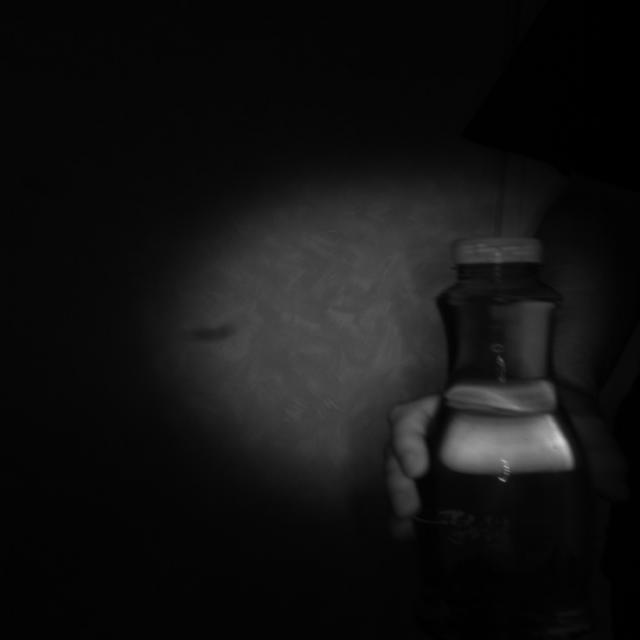Good: (452, 230, 550, 269)
